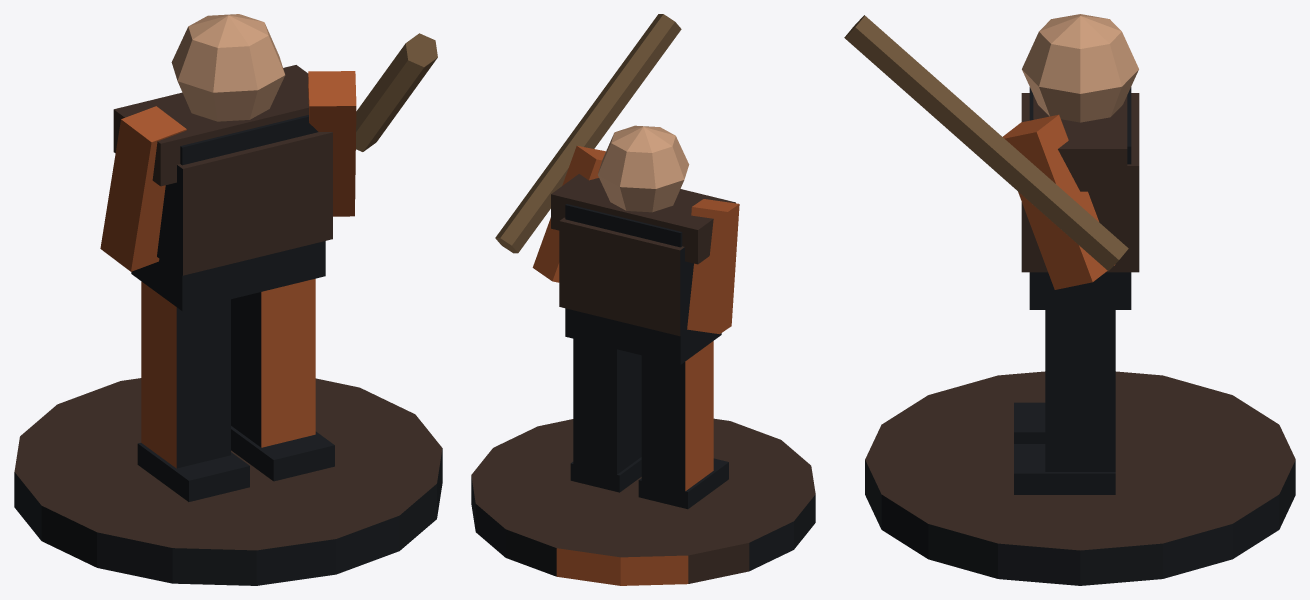
Rendered from rioter_thug.glb.
The picture shows the model from 3 angles, left to right: view 1: azimuth 30°, elevation 25°; view 2: azimuth 150°, elevation 25°; view 3: azimuth 270°, elevation 25°; orthographic projection. The views are drawn at different scales.
Parts seen in each view (by area): view 1: rioter_thug; view 2: rioter_thug; view 3: rioter_thug.
Boxes of the visible parts, x1,y1,x2,y2 form: rioter_thug: (14, 14, 442, 585); rioter_thug: (471, 14, 815, 585); rioter_thug: (844, 14, 1295, 585).
Bounding box in the file's own units: 1.1 × 1.46 × 1.15.
